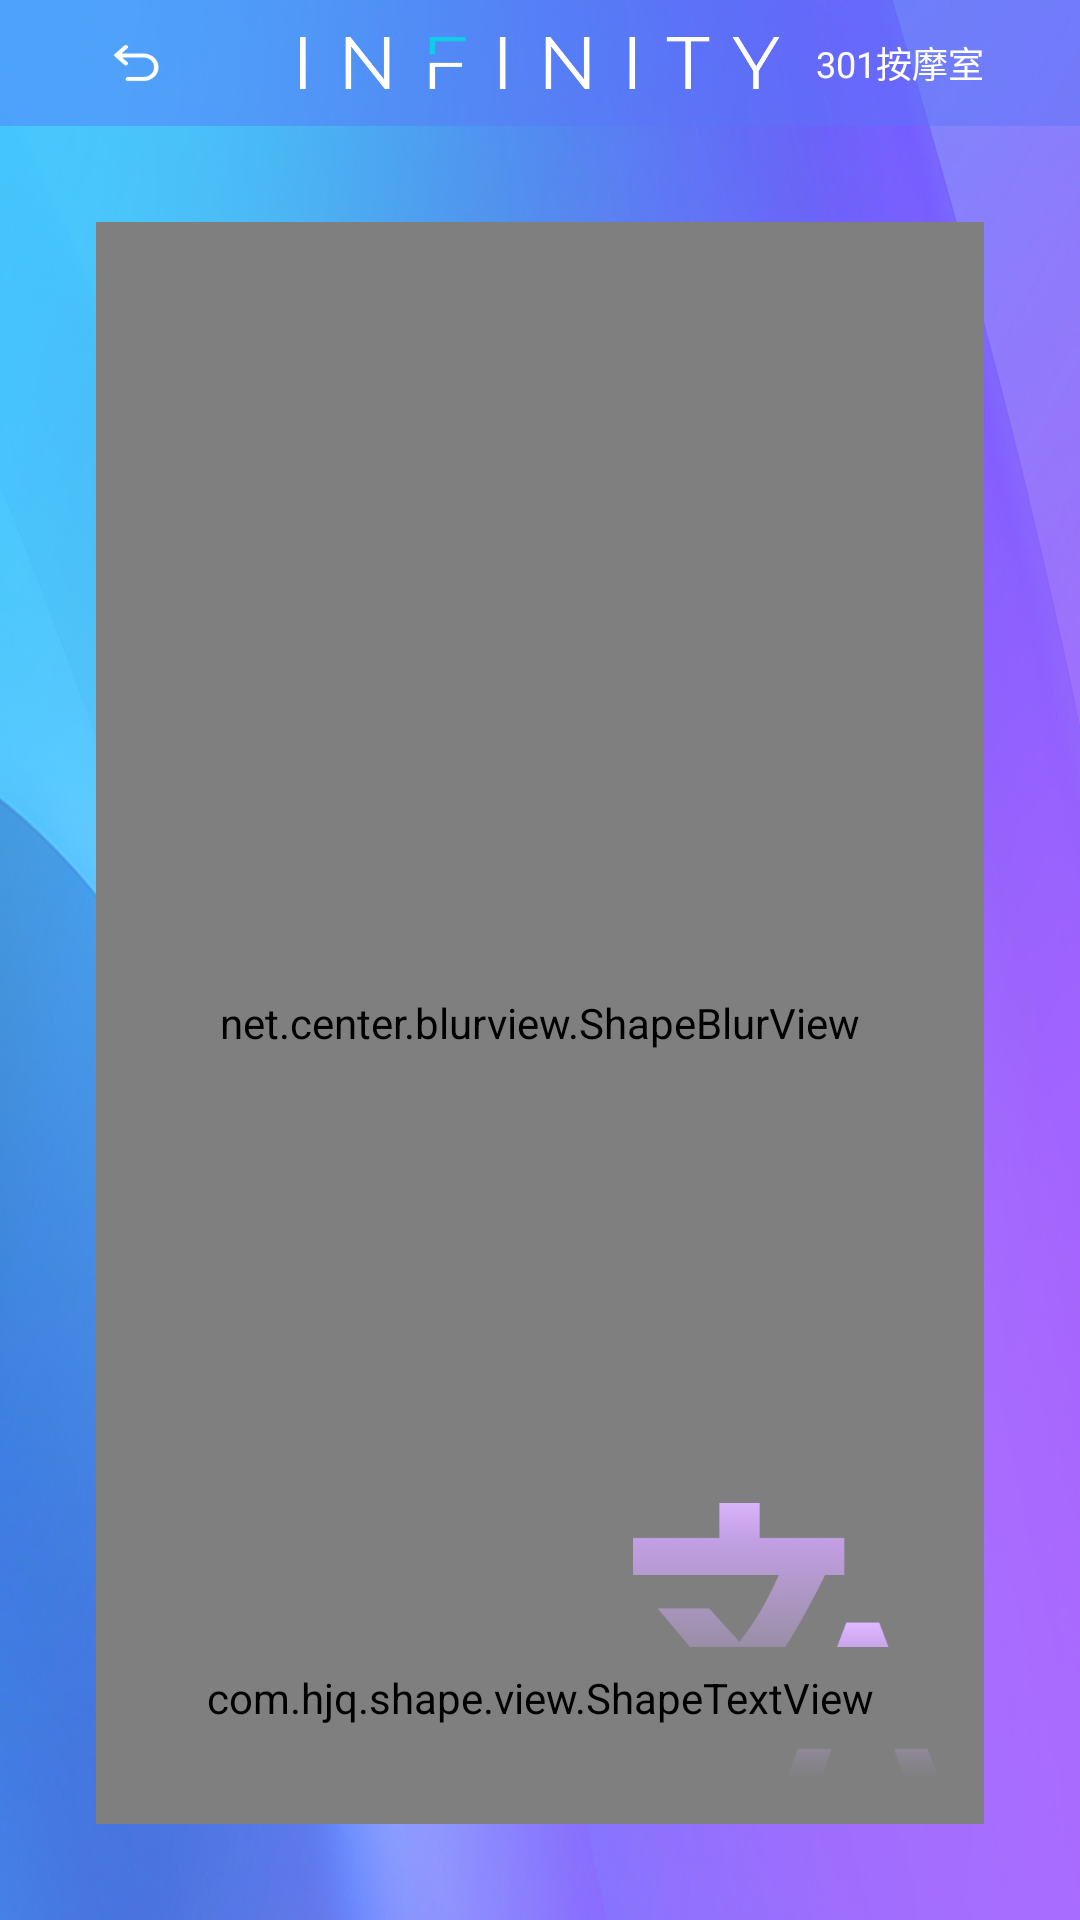

Point at icon controls on the screen. Image size 1080w x 1920h, points as point (x, y).
finish: point (136, 63)
